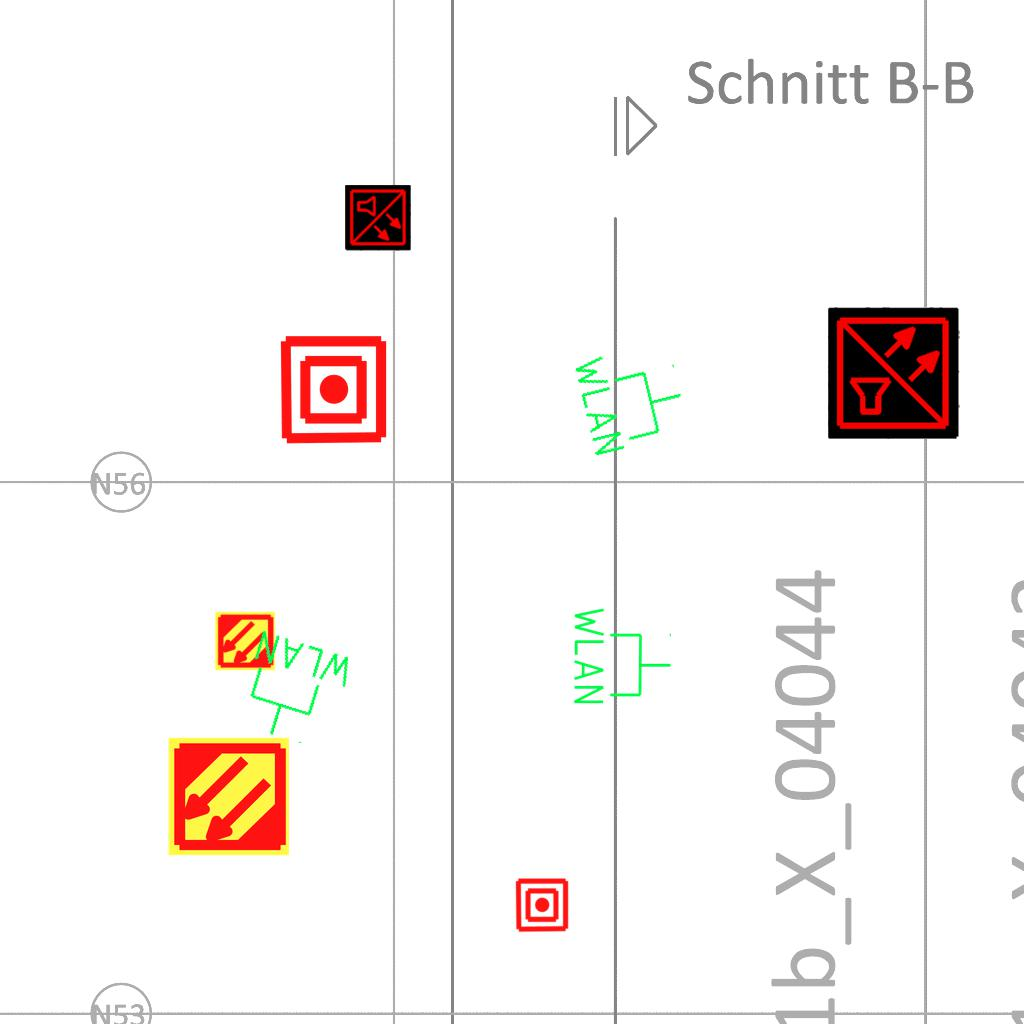ASR_Ansaugrauchmelder: (166, 734, 291, 859), (214, 610, 276, 672)
NAM-Nichtautomatischer_Melder: (277, 333, 390, 446), (514, 877, 570, 933)
OKW_Multisensormelder_(Kombination_optischer_Rauch-Kahlenmonoxid_Waerme-Melder): (828, 307, 960, 439), (345, 185, 411, 251)
WLAN: (229, 625, 361, 756), (567, 333, 695, 462), (570, 603, 674, 708)
